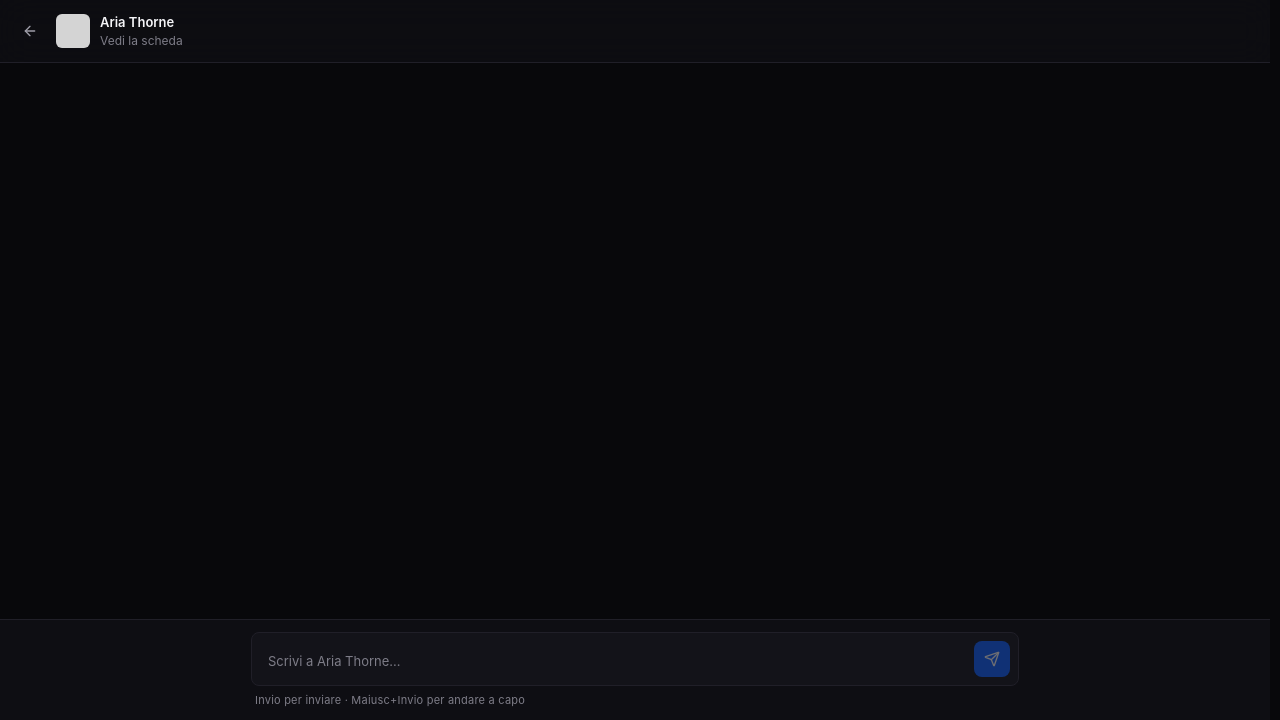
it: ChatPage › il percorso di crisi arriva in JSON e viene mostrato ugualmente
In the text box with placeholder "Scrivi a Aria Thorne…": (613, 661) [260, 645, 966, 677], type "sto male"
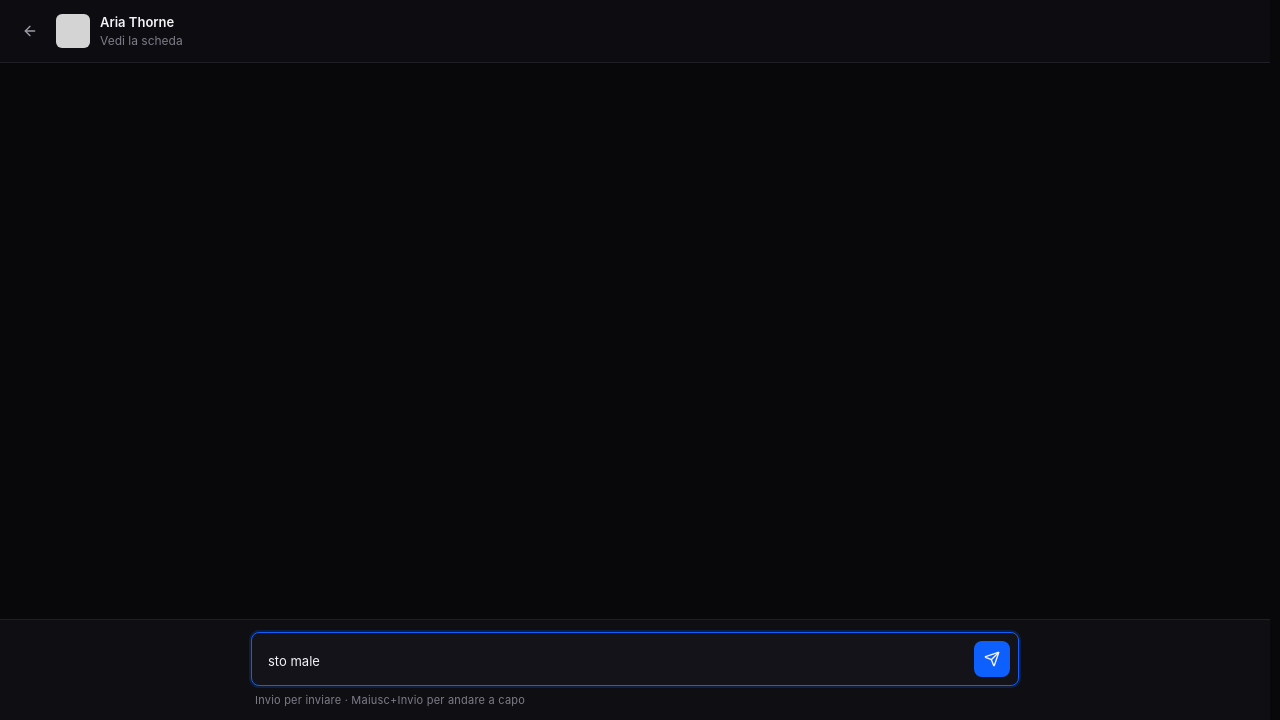
Click the button named "invia": (992, 659) [974, 641, 1010, 677]
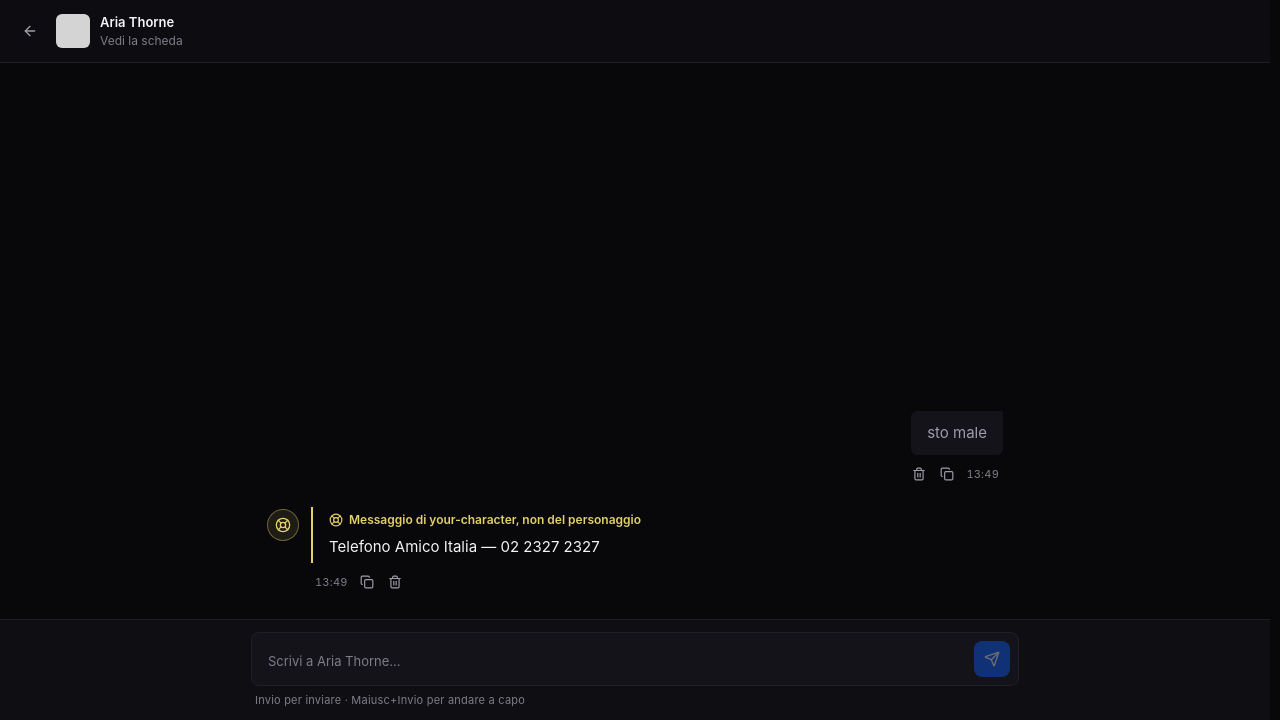
expect the text "Telefono Amico Italia — 02 2327 2327" is shown: met, box [329, 537, 600, 556]
expect the text "Messaggio di your-character, non del personaggio" is shown: met, box [329, 511, 641, 529]
